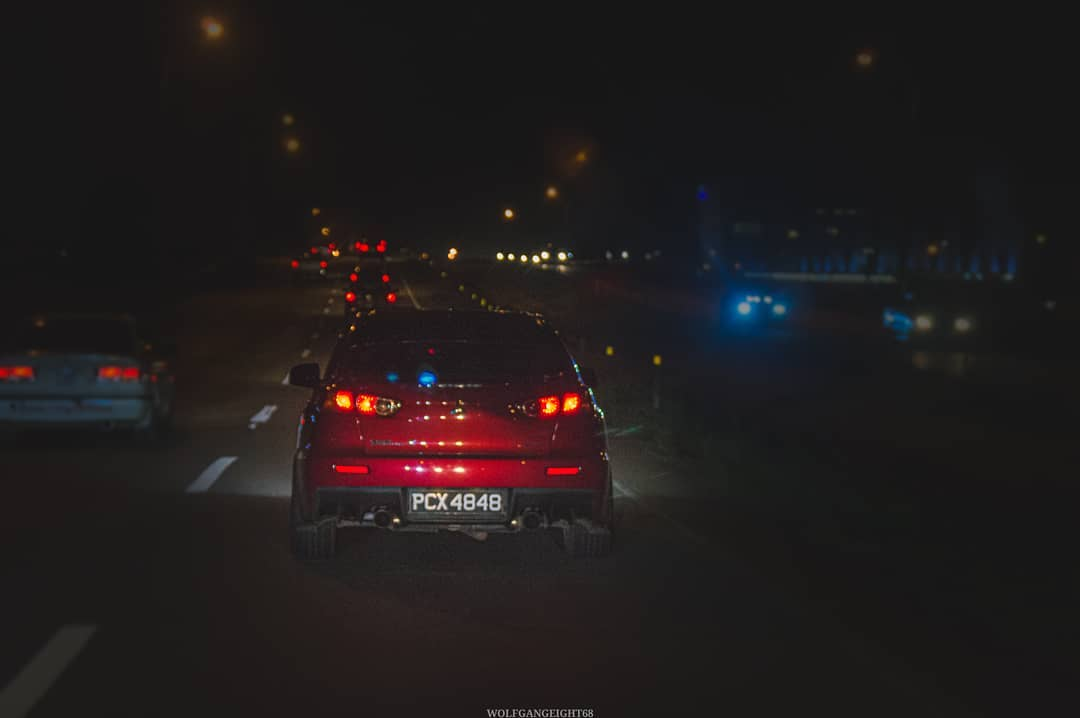License-Plate: (411, 491, 501, 511)
